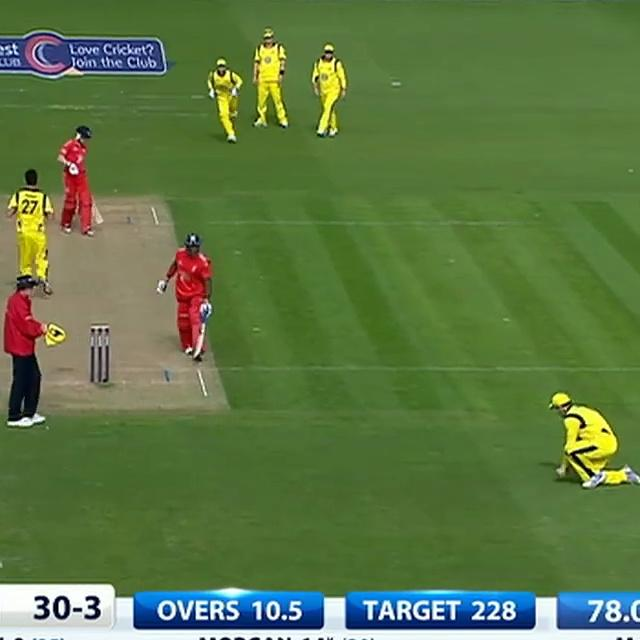umpire: (0, 261, 67, 430)
